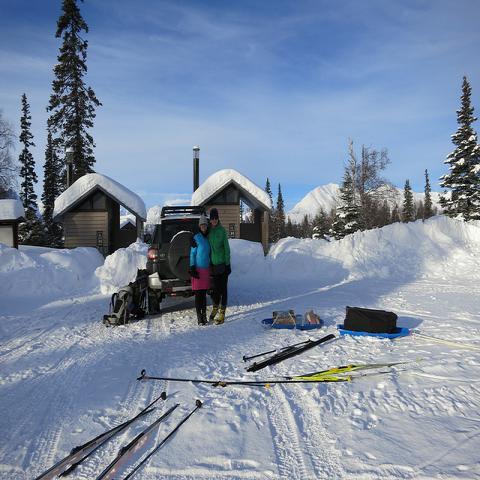truck: (146, 207, 209, 315)
